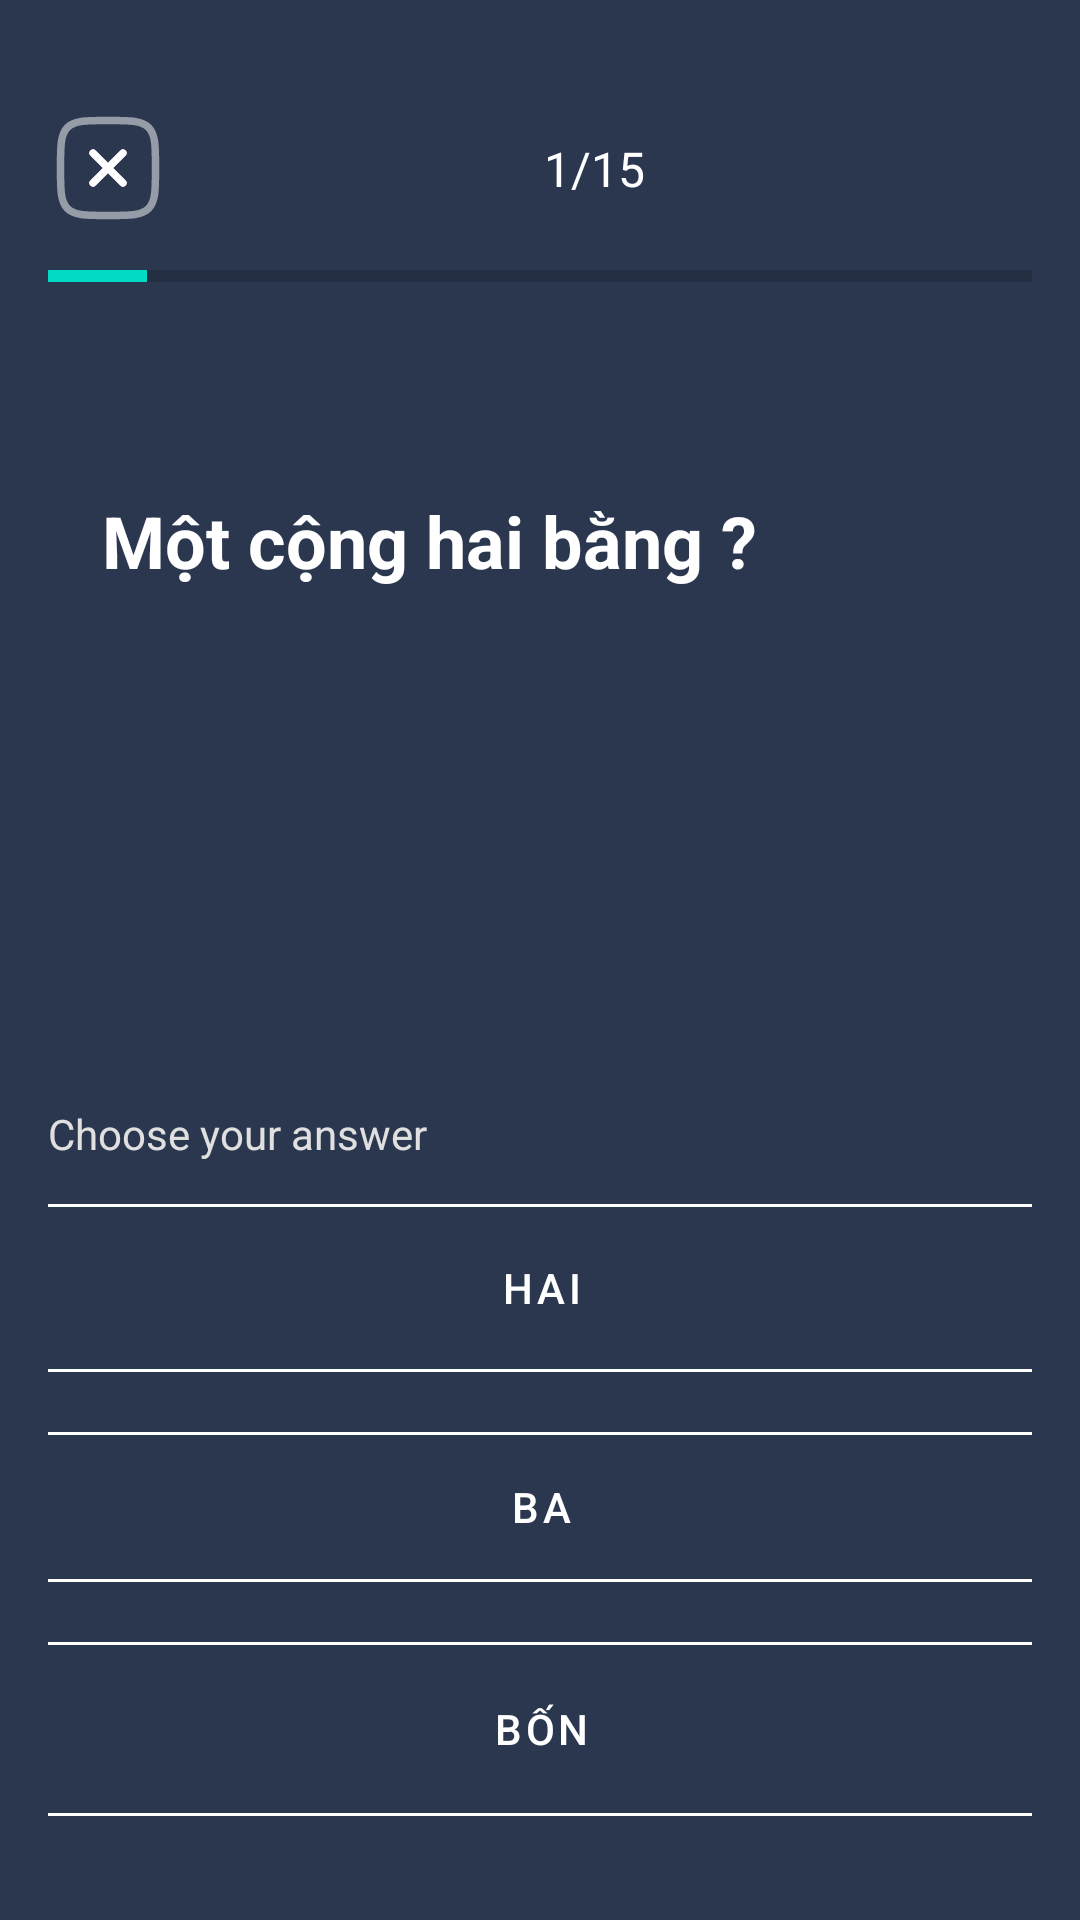

Icons on this 1080w x 1920h Android screen, each with the point to tap as (x,y):
Close: (108,168)
